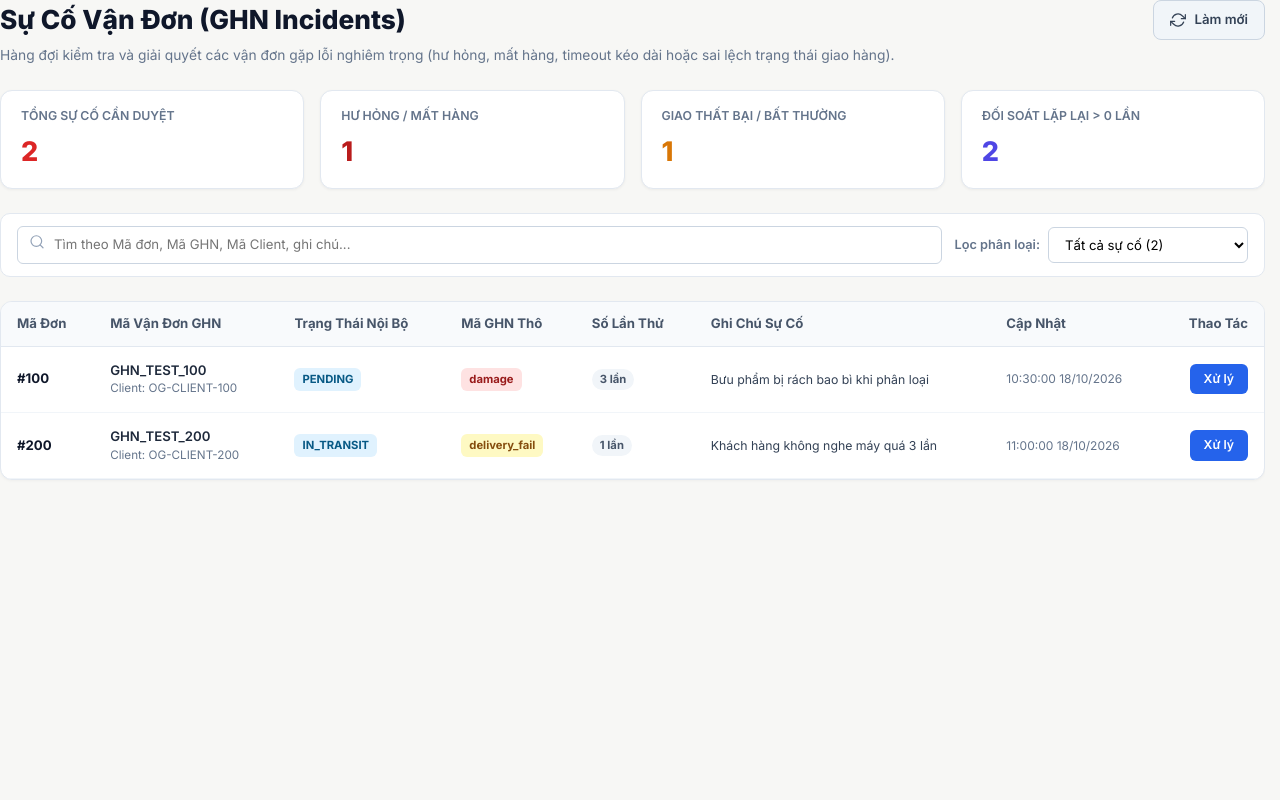
Test: AdminFulfillmentIncidentsPage › opens resolve modal and submits DISMISS_AND_RESUME decision
This screenshot has width=1280, height=800.
Expected: the text "#100" is shown, [1, 346, 94, 412]
Note: Click on the first "Xử lý" button
Click the button "Xử lý" in the row of "GHN_TEST_100": (1219, 379) [1190, 364, 1248, 394]
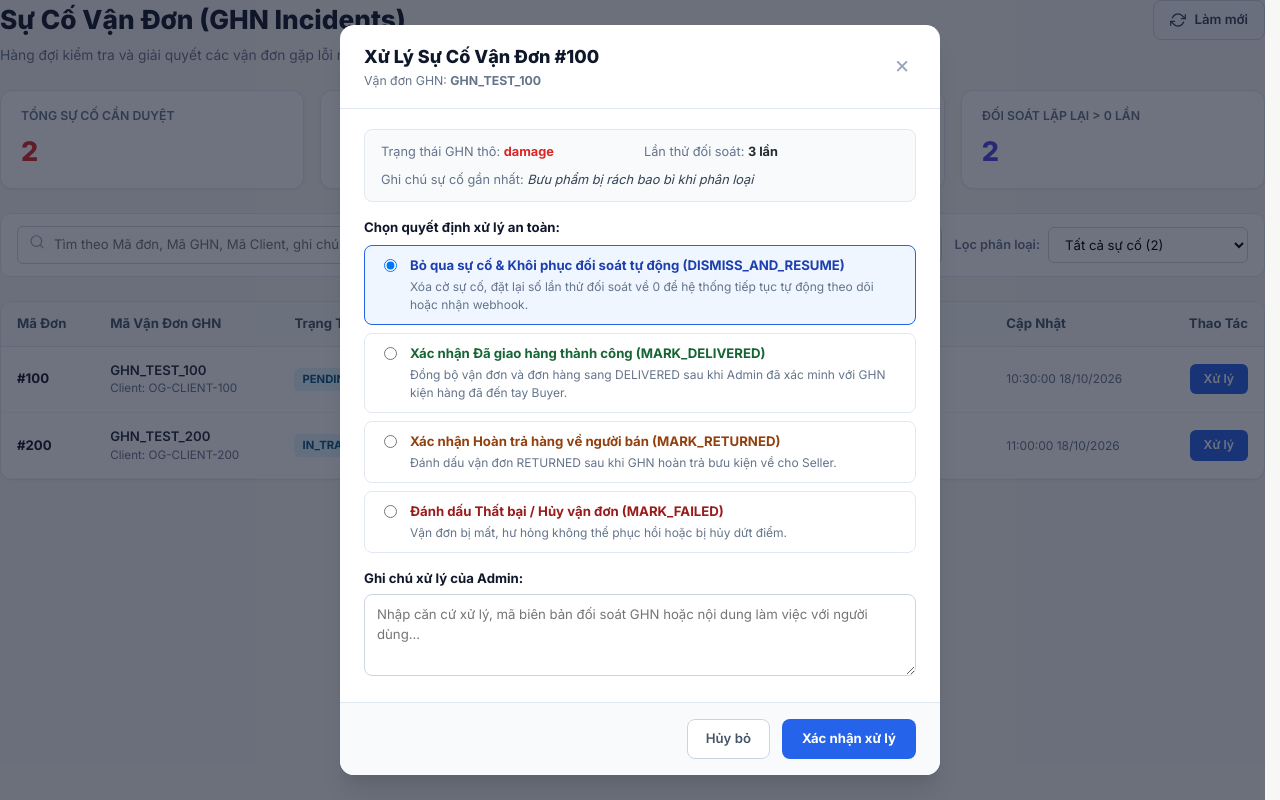
Result: the heading "Xử Lý Sự Cố Vận Đơn #100" is shown at [364, 43, 599, 70]
Result: the text "Bỏ qua sự cố & Khôi phục đối soát tự động" is shown at [410, 257, 845, 273]
Note: Type admin notes
Replace the text in the text box with placeholder "Nhập căn cứ xử lý" with "Đã làm việc với kho GHN": (640, 635) [364, 594, 916, 676]
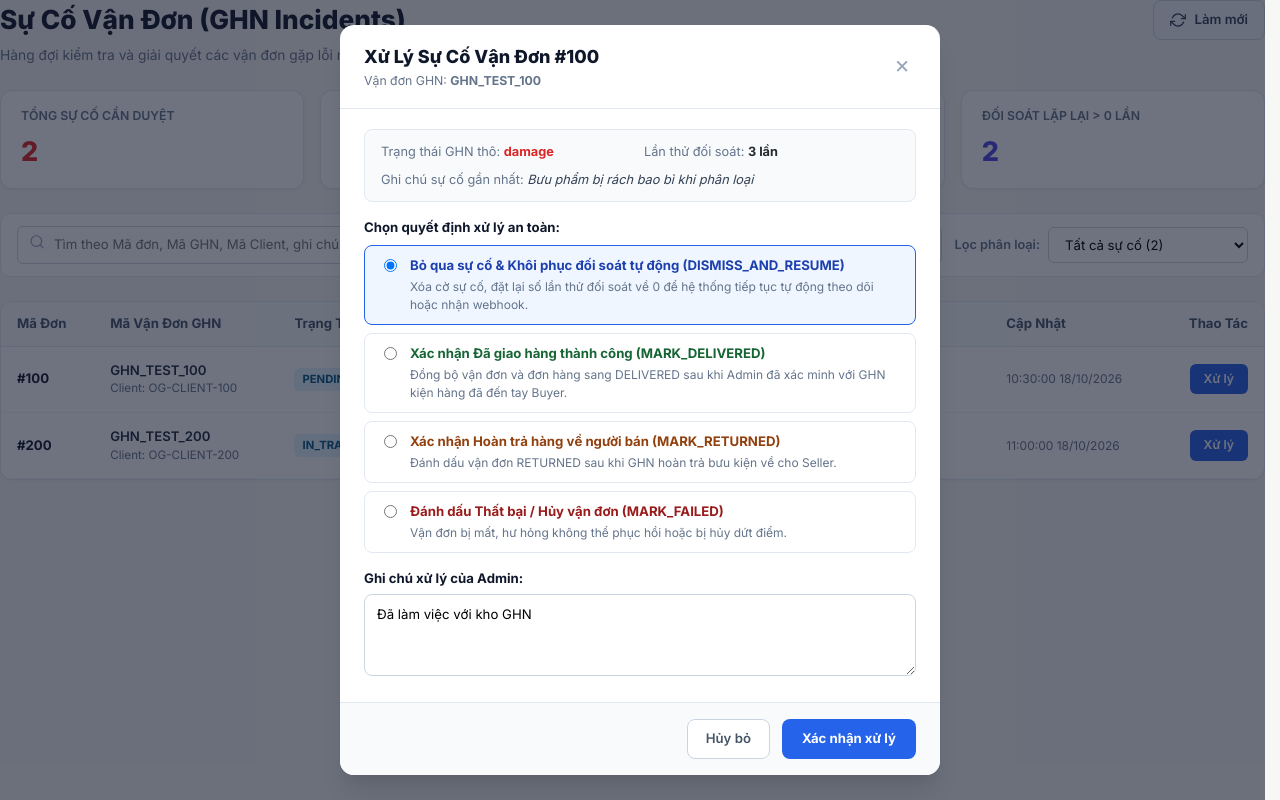
Note: Click confirm
Click the button "Xác nhận xử lý": (849, 739) [782, 719, 916, 759]
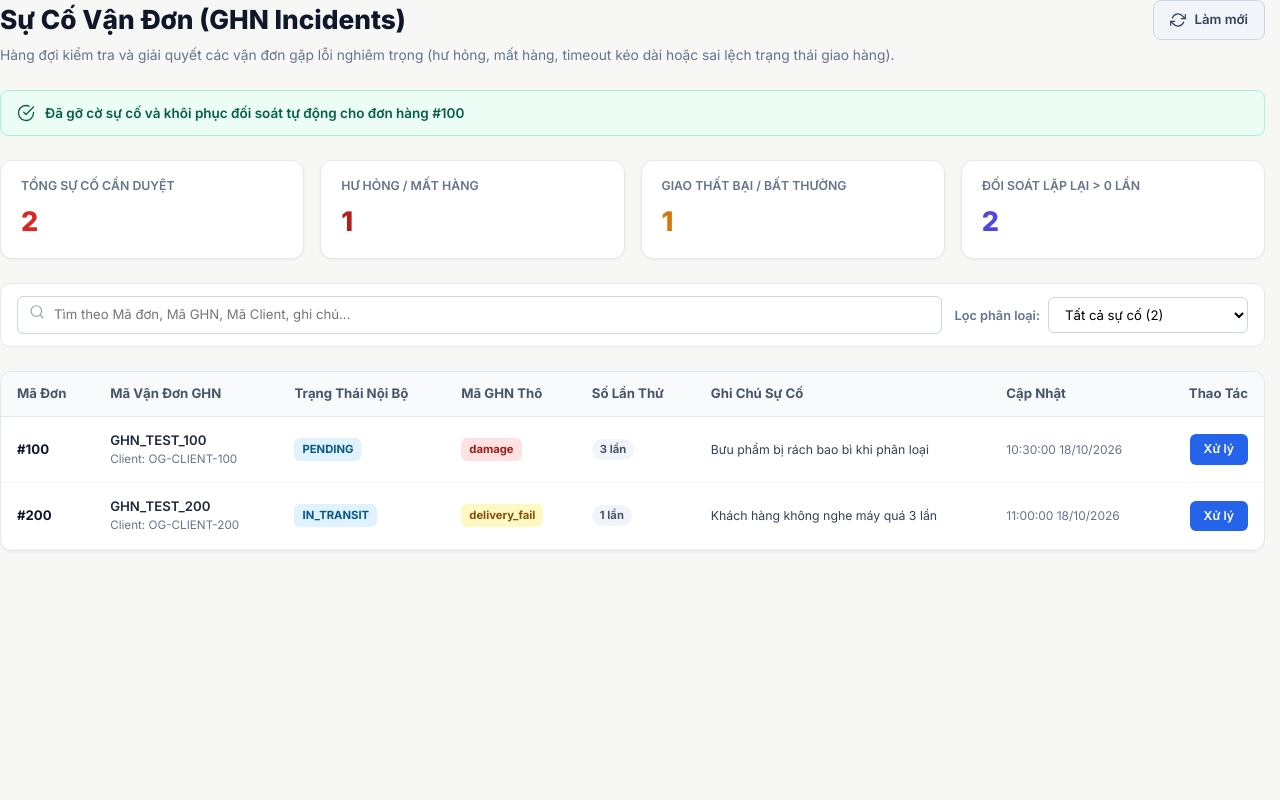
Result: the text "Đã gỡ cờ sự cố và khôi phục đối soát tự động" is shown at [45, 105, 464, 121]
